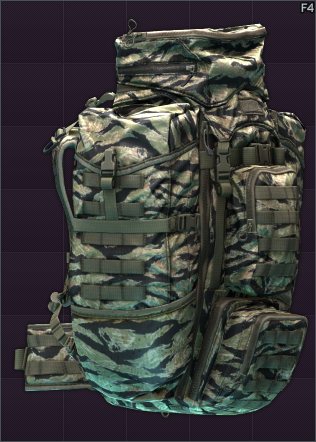Eberlestock F4 Terminator load bearing backpack Tiger Stripe: (0, 0, 316, 442)
